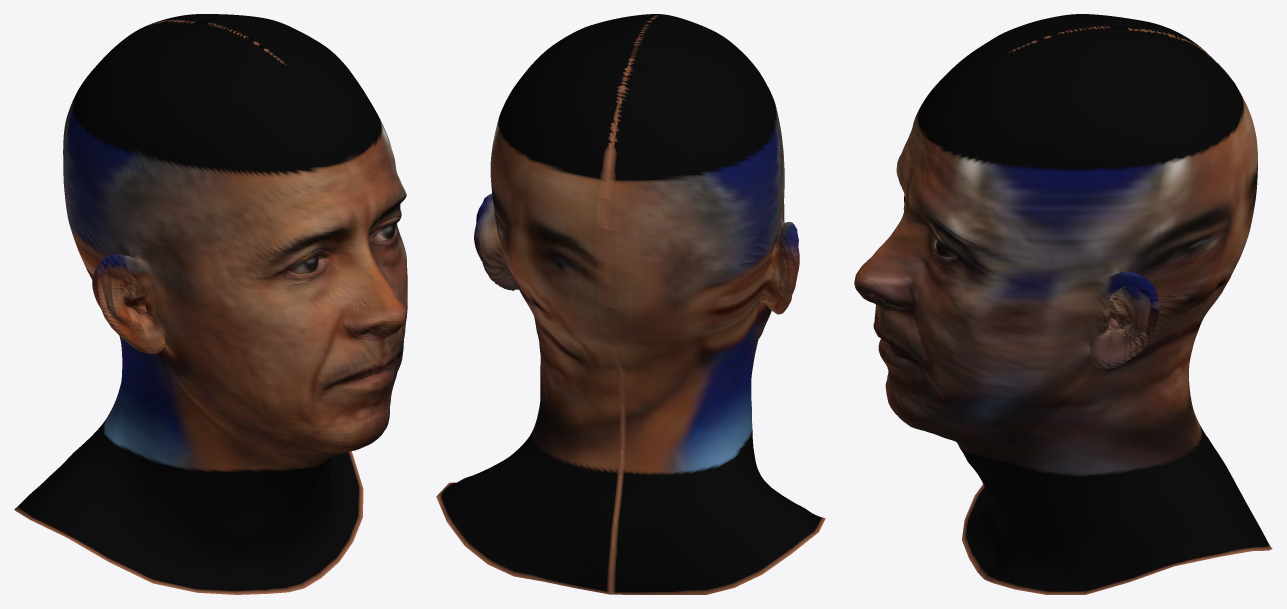
Rendered from mesh_coarse_detail.obj.
3 views of the same model, side by side, from view 1: azimuth 30°, elevation 25°; view 2: azimuth 150°, elevation 25°; view 3: azimuth 270°, elevation 25° (orthographic). The views are drawn at different scales.
Bounding box in the file's own units: 0.2151 × 0.3192 × 0.2276.
